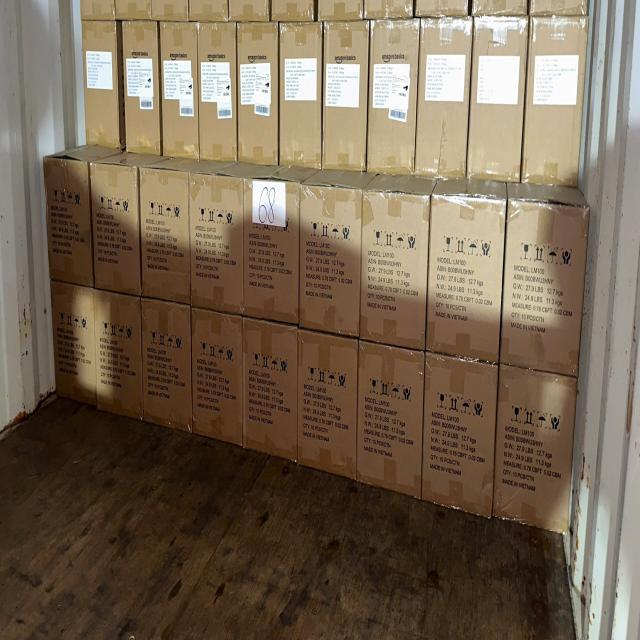Carton: (507, 198, 589, 377), (499, 363, 577, 527), (427, 195, 502, 361), (421, 354, 495, 516), (355, 342, 424, 498), (363, 194, 430, 349), (301, 186, 364, 338), (297, 337, 358, 482), (242, 180, 302, 326), (187, 172, 245, 311), (243, 318, 300, 459), (190, 310, 244, 446), (138, 166, 191, 302), (92, 288, 144, 425), (140, 301, 192, 431), (89, 164, 140, 296), (46, 157, 95, 287), (51, 280, 98, 407)
